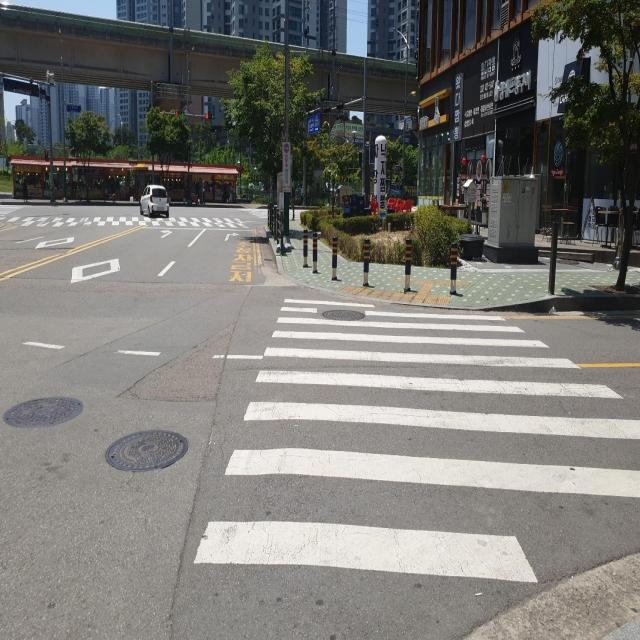횡단보도: (189, 291, 640, 590), (0, 209, 259, 232)
